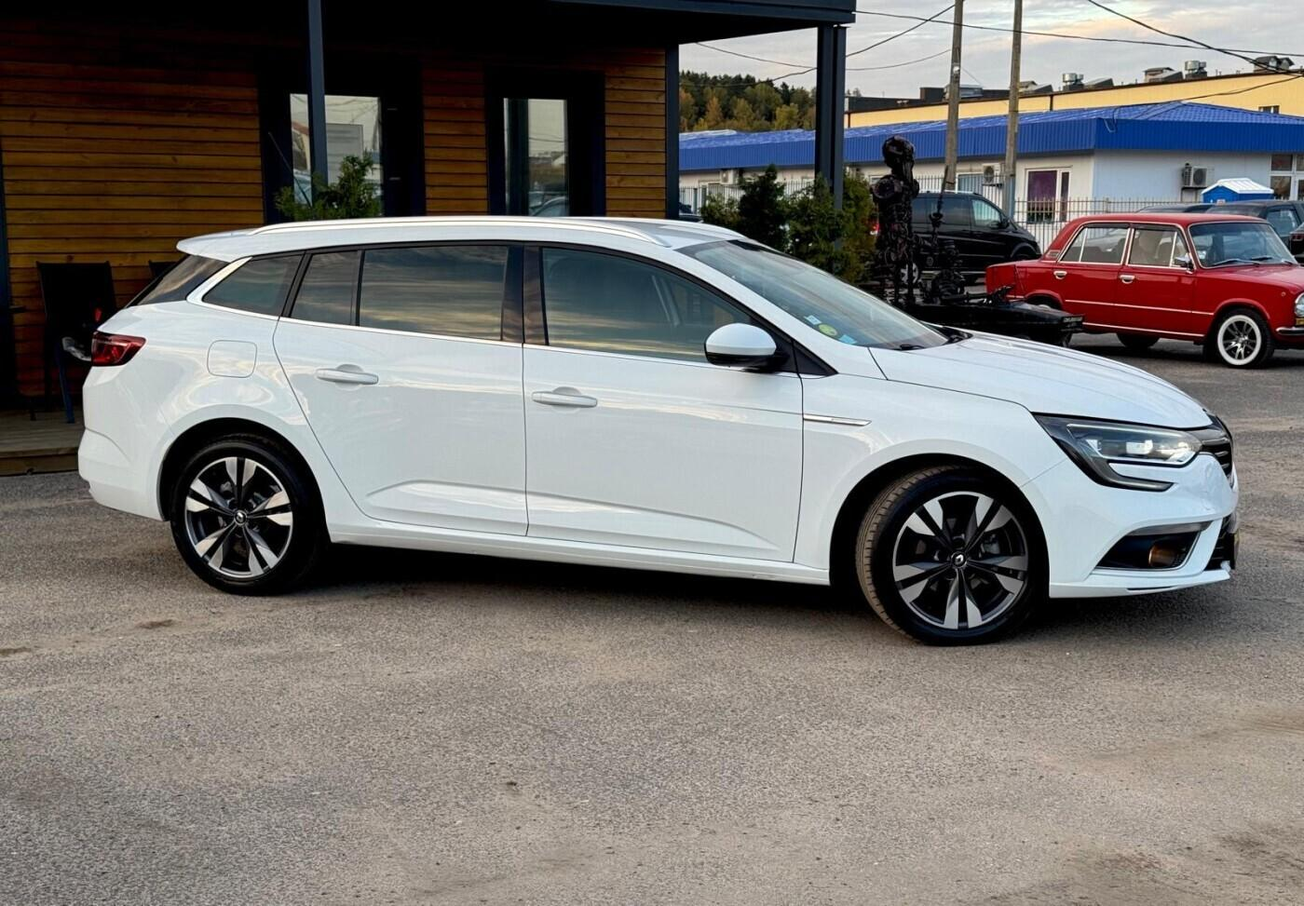Megane_2016-2020: (65, 212, 1249, 663)
